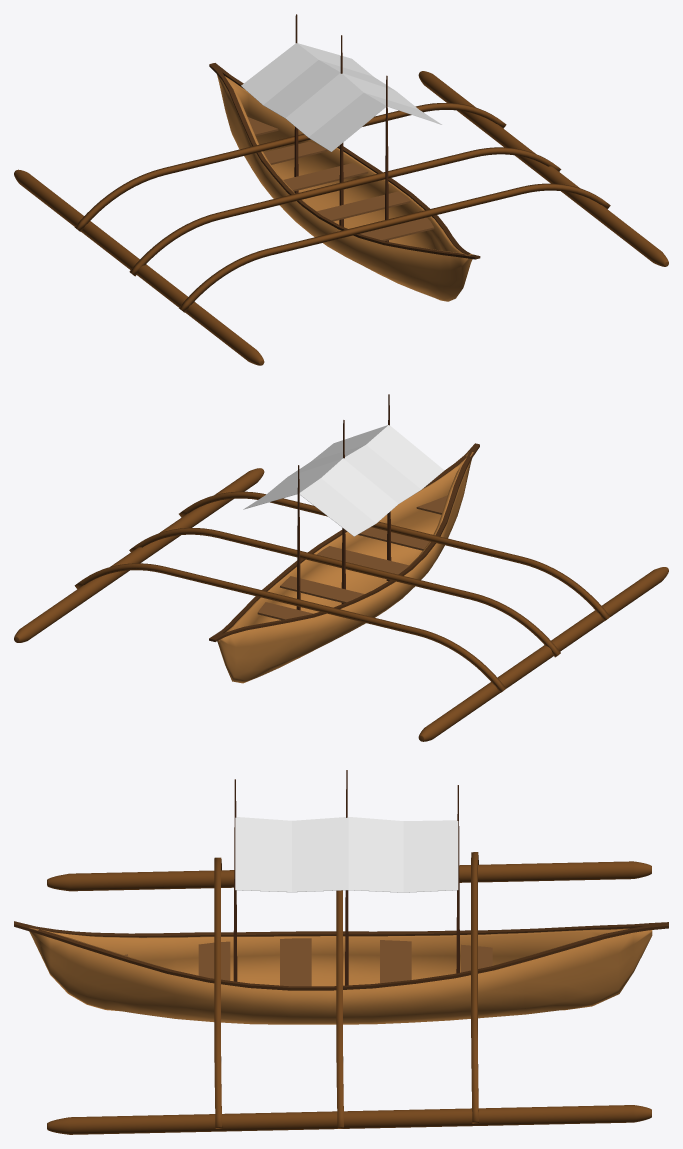
File: Canoe Big.fbx
The picture shows the model from 3 angles, top to bottom: view 1: azimuth 30°, elevation 25°; view 2: azimuth 150°, elevation 25°; view 3: azimuth 270°, elevation 25°; orthographic projection. The views are drawn at different scales.
Visible parts, largest first — view 1: Arms.001, Canoe.001, Roof, Handle.001, Bevel.001, Stand; view 2: Arms.001, Canoe.001, Roof, Handle.001, Bevel.001, Stand; view 3: Canoe.001, Arms.001, Roof, Bevel.001, Handle.001, Stand.
Part boxes in pixels (x1,y1,x2,y2): Arms.001: (14, 71, 668, 365); Canoe.001: (217, 74, 472, 301); Roof: (241, 43, 441, 151); Handle.001: (247, 116, 434, 240); Bevel.001: (209, 63, 480, 259); Stand: (294, 14, 388, 241); Arms.001: (14, 468, 668, 741); Canoe.001: (217, 451, 473, 683); Roof: (243, 425, 444, 536); Handle.001: (257, 495, 447, 619); Bevel.001: (209, 443, 479, 641); Stand: (296, 394, 391, 610); Canoe.001: (29, 925, 652, 1024); Arms.001: (47, 852, 651, 1134); Roof: (235, 817, 458, 892); Bevel.001: (14, 921, 668, 990); Handle.001: (124, 938, 492, 986); Stand: (233, 770, 459, 985).
Size of the model in its own units: 774 by 342 by 829.
